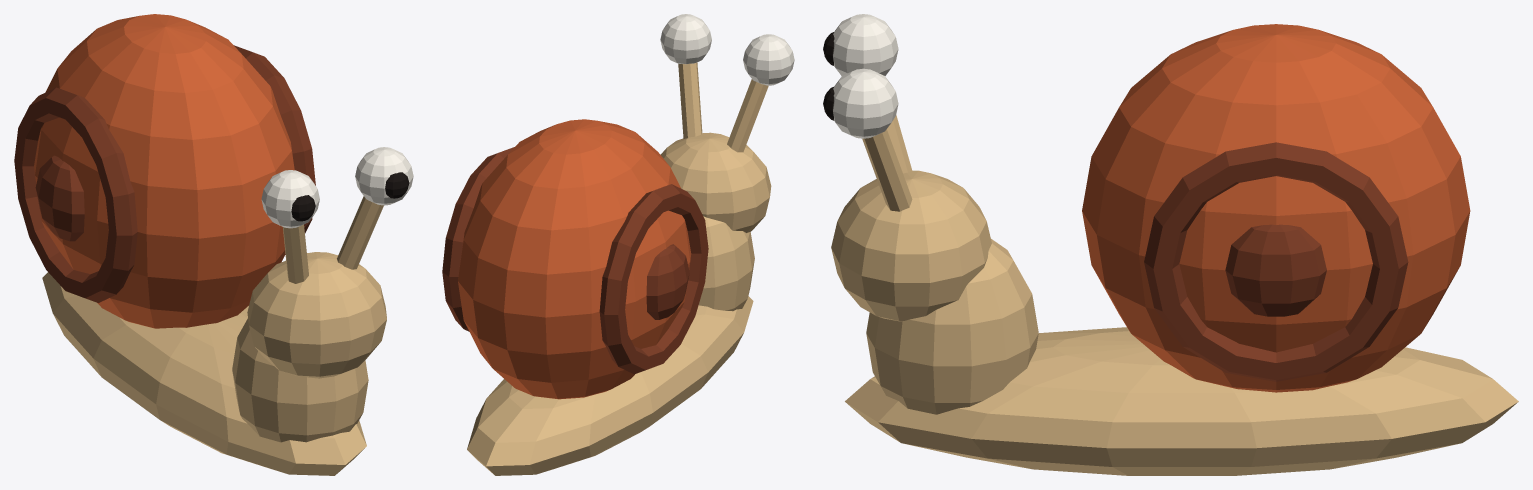
The model's file is snail.glb.
3 views of the same model, side by side, from view 1: azimuth 30°, elevation 25°; view 2: azimuth 150°, elevation 25°; view 3: azimuth 270°, elevation 25° (orthographic). The views are drawn at different scales.
Parts seen in each view (by area): view 1: Shell, Foot, Head, ShellBandL, Neck, WhorlL, ShellBandR, EyeR, EyeL, StalkR, StalkL, PupilL (+1 smaller); view 2: Shell, Foot, ShellBandL, Head, Neck, ShellBandR, WhorlL, EyeL, EyeR, StalkR, StalkL; view 3: Shell, Foot, ShellBandR, Neck, Head, WhorlR, EyeR, EyeL, StalkR.
Boxes of the visible parts, bbox=[...] form: Shell: bbox=[34, 14, 294, 328]; Foot: bbox=[42, 272, 366, 475]; Head: bbox=[247, 252, 386, 378]; ShellBandL: bbox=[14, 87, 137, 302]; Neck: bbox=[232, 318, 368, 442]; WhorlL: bbox=[35, 155, 84, 241]; ShellBandR: bbox=[233, 45, 315, 254]; EyeR: bbox=[355, 147, 413, 205]; EyeL: bbox=[261, 170, 319, 228]; StalkR: bbox=[337, 196, 383, 269]; StalkL: bbox=[283, 224, 308, 283]; PupilL: bbox=[291, 195, 315, 221]; Shell: bbox=[458, 119, 691, 399]; Foot: bbox=[467, 296, 753, 475]; ShellBandL: bbox=[599, 184, 708, 374]; Head: bbox=[660, 132, 771, 232]; Neck: bbox=[698, 216, 754, 311]; ShellBandR: bbox=[442, 147, 514, 331]; WhorlL: bbox=[646, 244, 689, 319]; EyeL: bbox=[743, 34, 794, 85]; EyeR: bbox=[660, 14, 711, 64]; StalkR: bbox=[678, 62, 702, 138]; StalkL: bbox=[727, 79, 768, 152]; Shell: bbox=[1082, 24, 1470, 392]; Foot: bbox=[845, 327, 1518, 475]; ShellBandR: bbox=[1144, 142, 1408, 381]; Neck: bbox=[866, 239, 1038, 414]; Head: bbox=[831, 170, 991, 321]; WhorlR: bbox=[1225, 224, 1326, 316]; EyeR: bbox=[833, 68, 898, 138]; EyeL: bbox=[833, 14, 898, 75]; StalkR: bbox=[862, 129, 912, 211].
Size of the model in its own units: 1.23 by 1.74 by 2.58.
